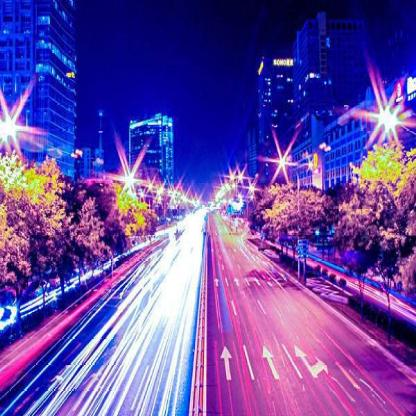other: (92, 137, 274, 327), (2, 99, 61, 211), (356, 135, 408, 210), (368, 76, 407, 150)
